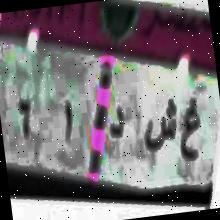1: (59, 96, 78, 146)
6: (14, 86, 36, 144)
daal: (105, 97, 128, 146)
ghayn: (174, 91, 206, 170)
sheen: (140, 92, 181, 159)
